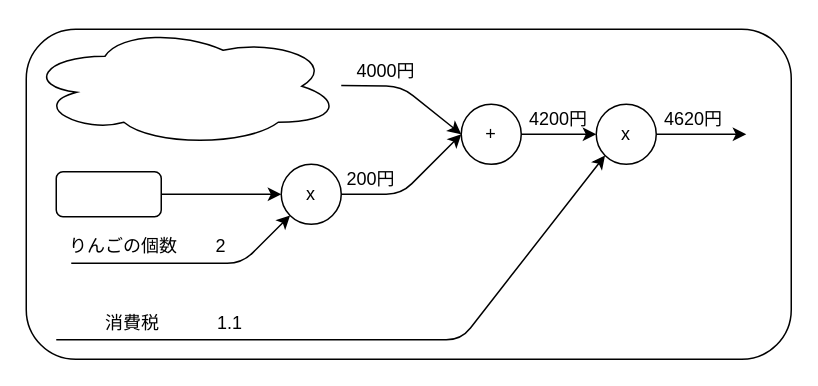
Some shapes in this 818 by 386 pixel diagram are drawn without their labels. The shapes that lost their labels are listed below. From the top down, each one's centre as x and y in pixels, then its label:
At (x=183, y=85): "いろいろなものを買って 複雑な計算を行った結果".
At (x=108, y=193): "りんご".
